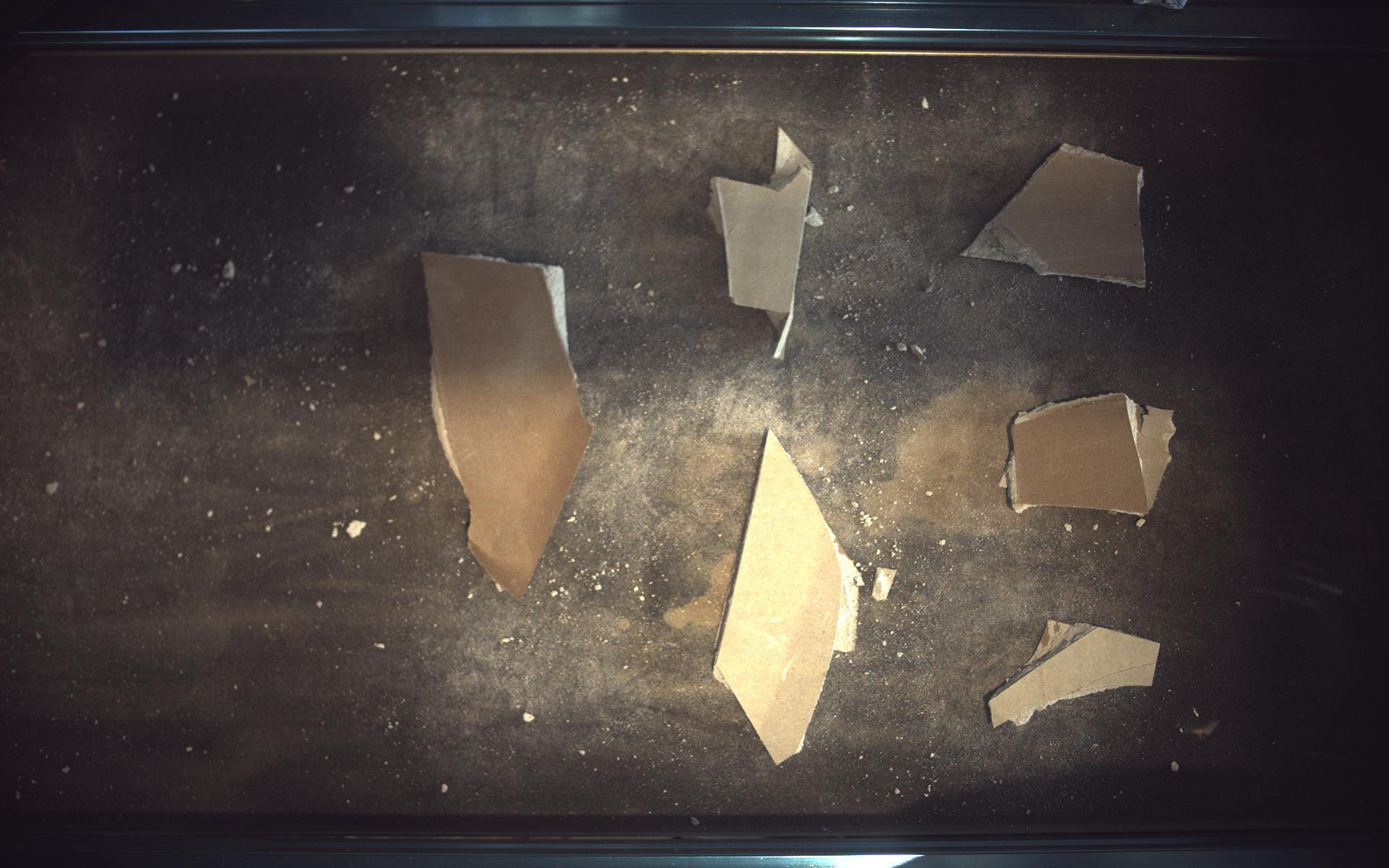gypsum_board: (422, 252, 593, 597), (714, 431, 864, 765), (964, 142, 1149, 287), (708, 127, 815, 359), (1006, 393, 1178, 518), (990, 621, 1162, 728)
